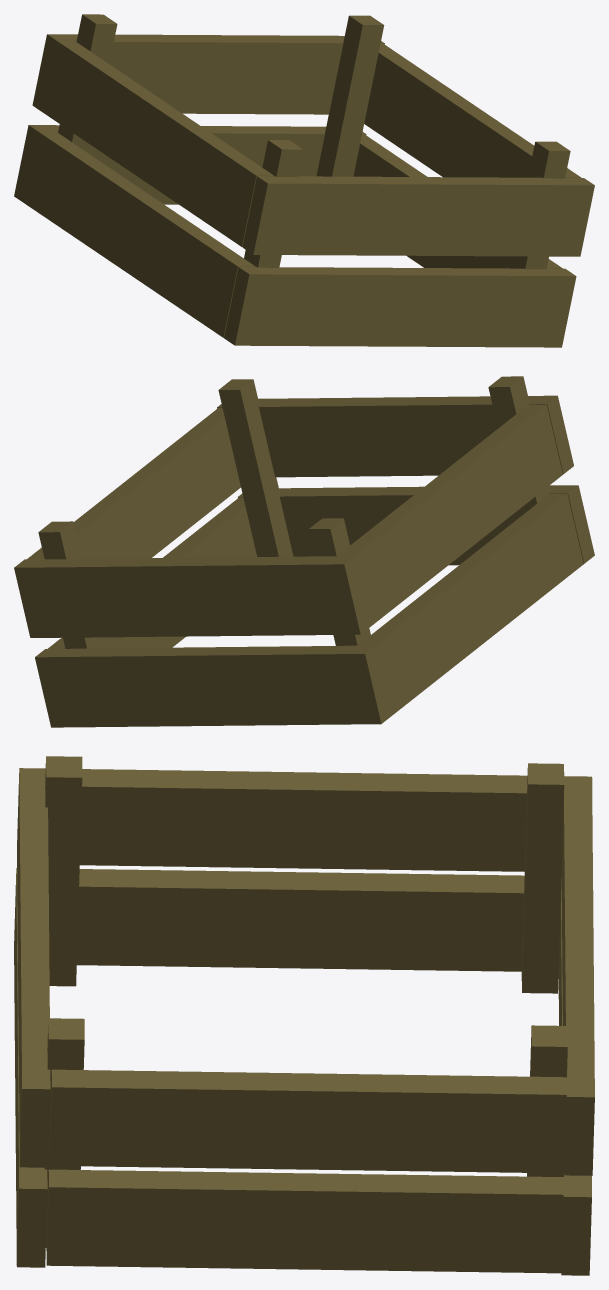
The model's file is basket.fbx.
3 renders of one model, top to bottom at view 1: azimuth 30°, elevation 25°; view 2: azimuth 150°, elevation 25°; view 3: azimuth 270°, elevation 25°, orthographic. The views are drawn at different scales.
Visible parts, largest first — view 1: Kostka.003; view 2: Kostka.003; view 3: Kostka.003.
Boxes of the visible parts, left/top/right/bottom form: Kostka.003: left=14, top=14, right=594, bottom=347; Kostka.003: left=14, top=376, right=594, bottom=727; Kostka.003: left=14, top=756, right=594, bottom=1275.
Size of the model in its own units: 548 by 376 by 568.
